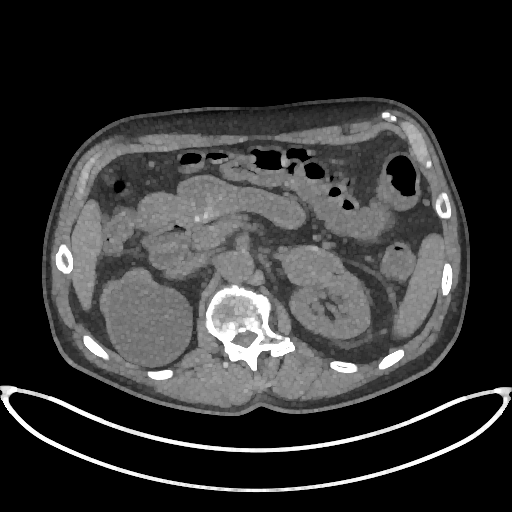Lesion: (274, 242, 347, 288)
